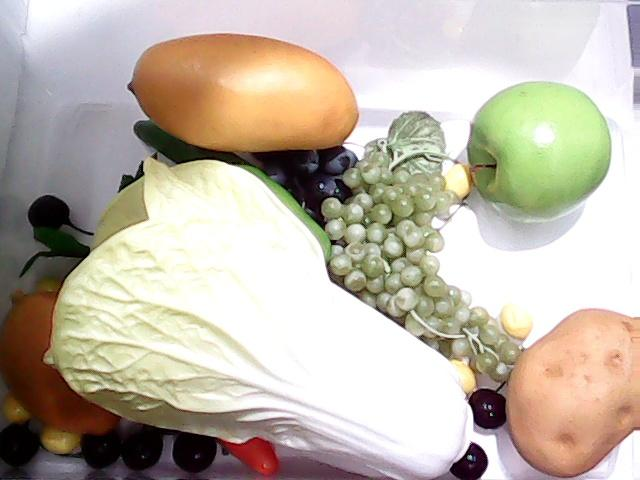apple: (464, 77, 616, 228)
carrot: (219, 426, 279, 478)
grape: (320, 140, 520, 383), (260, 140, 364, 232)
lemon: (0, 286, 124, 433)
mango: (124, 29, 362, 156)
napa cabbage: (46, 152, 467, 480)
pepper: (132, 120, 334, 268)
potato: (506, 308, 640, 480)
